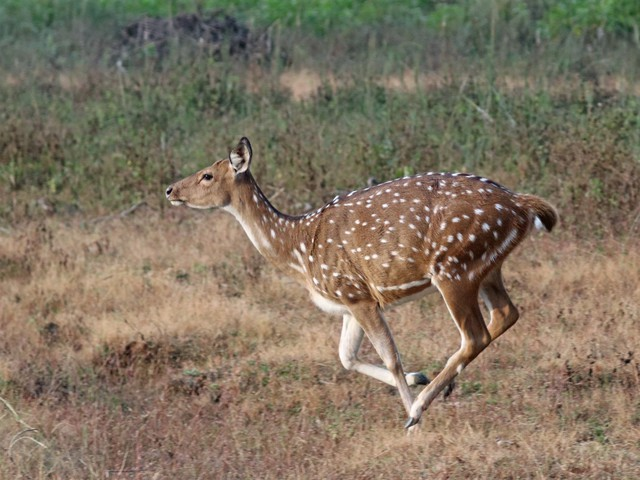deer: (165, 134, 566, 428)
